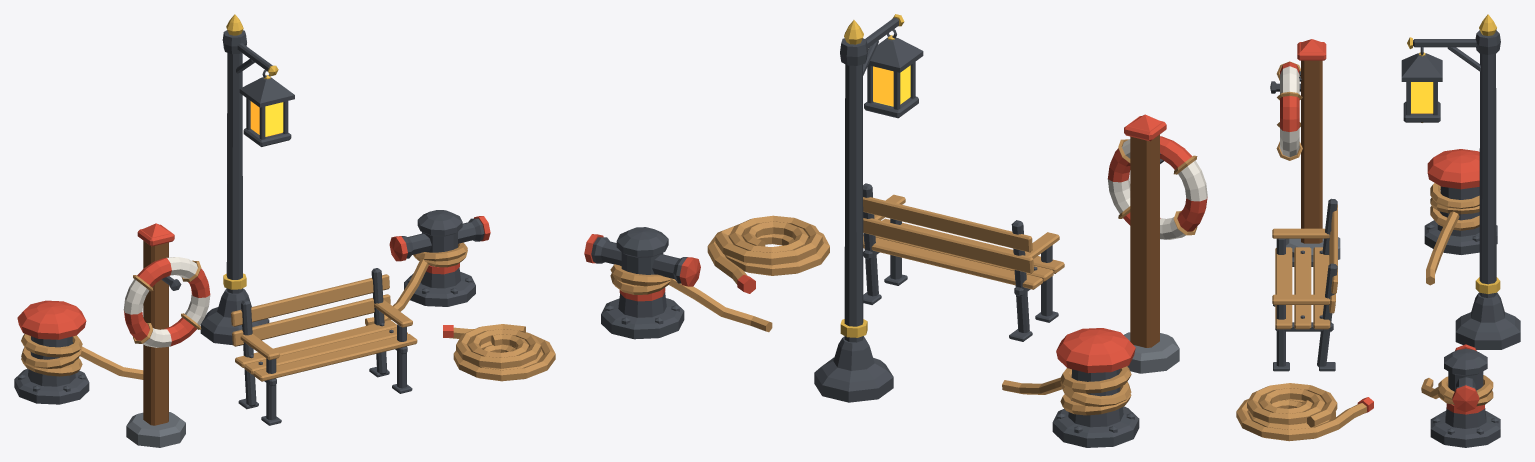
The model's file is pier-furniture-set.glb.
3 renders of one model, left to right at view 1: azimuth 30°, elevation 25°; view 2: azimuth 150°, elevation 25°; view 3: azimuth 270°, elevation 25°, orthographic. The views are drawn at different scales.
Parts seen in each view (by area): view 1: LifeRing, Lamp_Pole, LRP_Post, BollardB_Body, Coil_Layer2, BollardA_Body, Bench_BackPlank1, BollardA_Cap, Bench_BackPlank0, Coil_Layer1, Bench_SeatPlank0, Lamp_Base (+13 smaller); view 2: LRP_Post, Lamp_Pole, BollardB_Body, LifeRing, Coil_Layer2, Lamp_Base, BollardA_Body, Bench_BackPlank0, Bench_BackPlank1, BollardA_Cap, Bench_SeatPlank2, Coil_Layer1 (+14 smaller); view 3: Lamp_Pole, LRP_Post, BollardB_Body, Coil_Layer2, Lamp_Base, Coil_Layer1, BollardA_Cap, BollardA_Body, LifeRing, Bench_SeatPlank1, Bench_SeatPlank0, Lantern_Roof (+21 smaller).
Part boxes in pixels (bbox=[...]): LifeRing: bbox=[123, 257, 210, 347]; Lamp_Pole: bbox=[226, 32, 242, 293]; LRP_Post: bbox=[143, 240, 168, 425]; BollardB_Body: bbox=[404, 210, 475, 306]; Coil_Layer2: bbox=[456, 324, 540, 368]; BollardA_Body: bbox=[14, 336, 89, 404]; Bench_BackPlank1: bbox=[231, 274, 389, 326]; BollardA_Cap: bbox=[17, 300, 86, 339]; Bench_BackPlank0: bbox=[232, 294, 390, 346]; Coil_Layer1: bbox=[449, 327, 555, 381]; Bench_SeatPlank0: bbox=[253, 334, 417, 381]; Lamp_Base: bbox=[200, 288, 269, 345]; LRP_Post: bbox=[1130, 134, 1159, 347]; Lamp_Pole: bbox=[844, 40, 863, 342]; BollardB_Body: bbox=[601, 227, 684, 339]; LifeRing: bbox=[1107, 136, 1207, 239]; Coil_Layer2: bbox=[715, 215, 822, 265]; Lamp_Base: bbox=[814, 336, 893, 402]; BollardA_Body: bbox=[1052, 369, 1139, 447]; Bench_BackPlank0: bbox=[863, 218, 1033, 273]; Bench_BackPlank1: bbox=[863, 197, 1032, 252]; BollardA_Cap: bbox=[1056, 328, 1135, 373]; Bench_SeatPlank2: bbox=[863, 234, 1042, 289]; Coil_Layer1: bbox=[707, 225, 829, 284]; Lamp_Pole: bbox=[1479, 33, 1496, 297]; LRP_Post: bbox=[1301, 60, 1322, 243]; BollardB_Body: bbox=[1430, 349, 1500, 447]; Coil_Layer2: bbox=[1247, 383, 1337, 427]; Lamp_Base: bbox=[1455, 292, 1520, 349]; Coil_Layer1: bbox=[1236, 399, 1366, 441]; BollardA_Cap: bbox=[1427, 149, 1479, 189]; BollardA_Body: bbox=[1424, 186, 1497, 254]; LifeRing: bbox=[1280, 62, 1299, 157]; Bench_SeatPlank1: bbox=[1294, 247, 1311, 329]; Bench_SeatPlank0: bbox=[1275, 247, 1292, 329]; Lantern_Roof: bbox=[1401, 53, 1442, 81].
Size of the model in its own units: 17.96 by 11.6 by 9.27.
